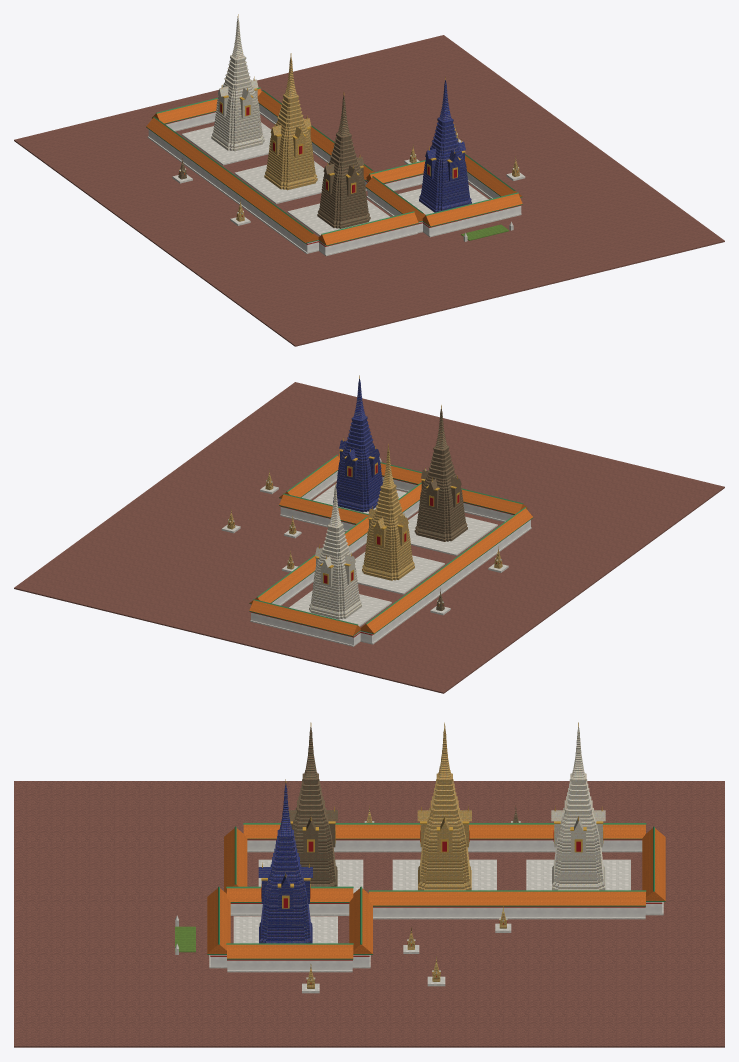
File: wat-pho.glb
3 renders of one model, top to bottom at view 1: azimuth 30°, elevation 25°; view 2: azimuth 150°, elevation 25°; view 3: azimuth 270°, elevation 25°, orthographic. The views are drawn at different scales.
Visible parts, largest first — view 1: WatPho; view 2: WatPho; view 3: WatPho.
Boxes of the visible parts, x1,y1,x2,y2 form: WatPho: [14, 14, 724, 346]; WatPho: [14, 375, 724, 693]; WatPho: [14, 722, 724, 1047].
Bounding box in the file's own units: 150 × 42.9 × 170.
13 materials, 9 textured.
